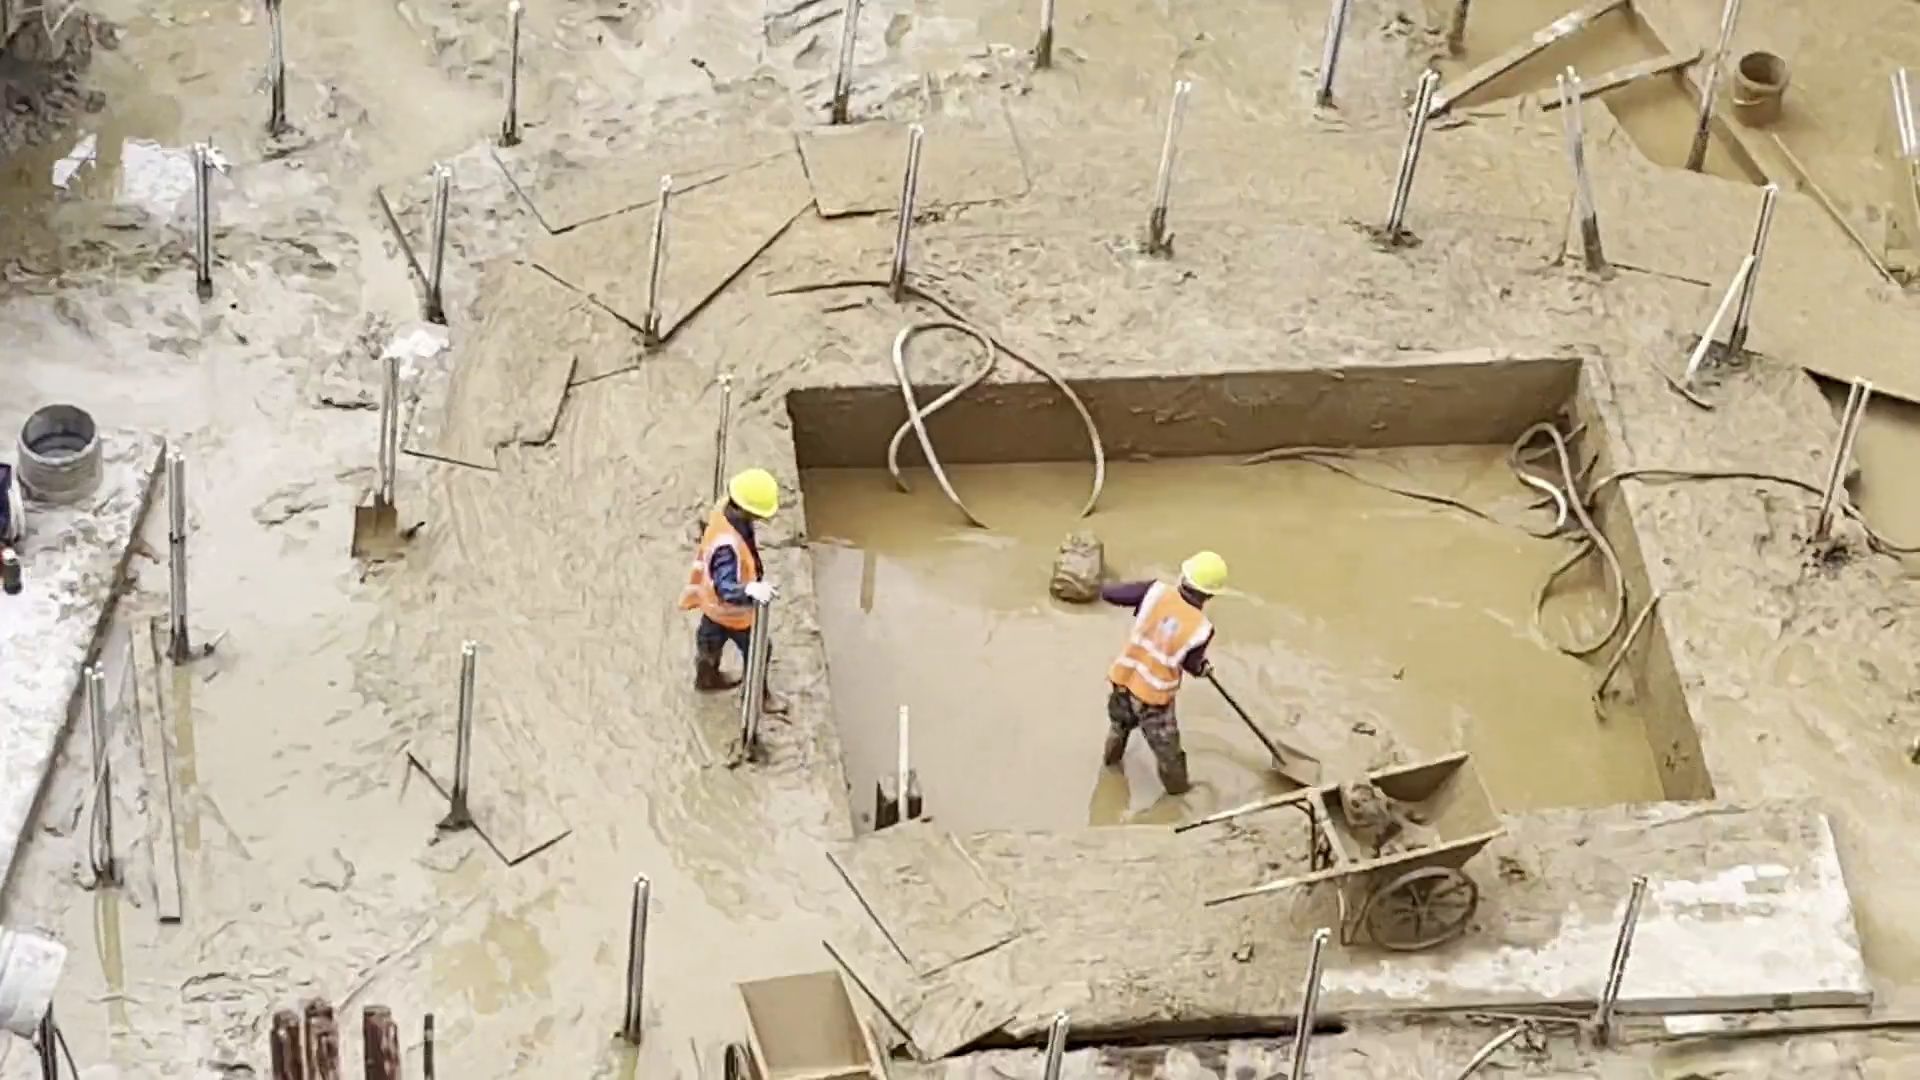handcart: (1177, 752, 1508, 952)
helmet: (730, 468, 783, 521), (1177, 549, 1229, 599)
person: (1089, 548, 1226, 794), (680, 466, 784, 694)
vest: (1109, 577, 1217, 710), (678, 511, 770, 638)
